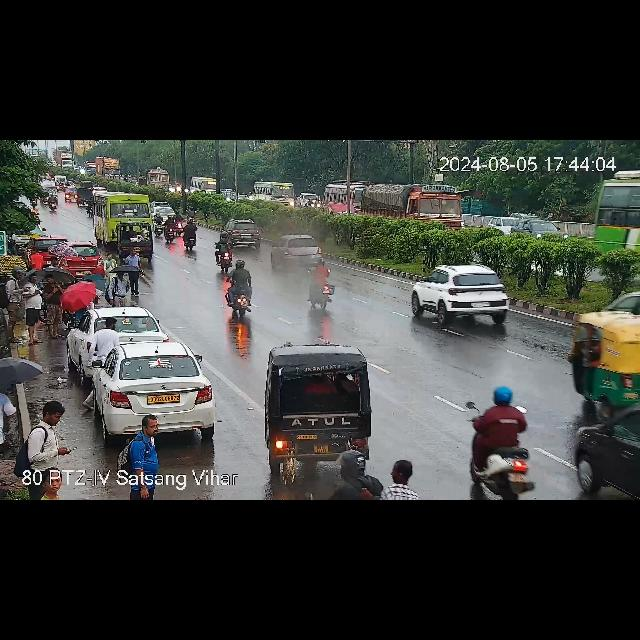bus: (595, 161, 640, 261), (91, 193, 159, 241), (253, 179, 297, 205)
car: (260, 343, 374, 469), (79, 342, 219, 438), (570, 310, 640, 410), (574, 392, 636, 500), (410, 266, 520, 326), (59, 243, 108, 274), (268, 237, 324, 263), (120, 222, 156, 256), (226, 220, 264, 248), (76, 189, 92, 207), (156, 205, 178, 218), (77, 180, 95, 190), (64, 189, 78, 201)
motorcycle: (468, 394, 532, 500), (225, 265, 257, 315), (308, 258, 337, 306), (214, 237, 240, 269), (182, 220, 204, 250), (165, 218, 183, 244), (49, 194, 59, 210), (308, 199, 316, 211), (314, 199, 322, 209)
person: (23, 403, 72, 471), (121, 417, 167, 475), (80, 318, 122, 377), (20, 273, 48, 341), (114, 248, 148, 300), (30, 247, 46, 270)
truck: (324, 182, 470, 228)
